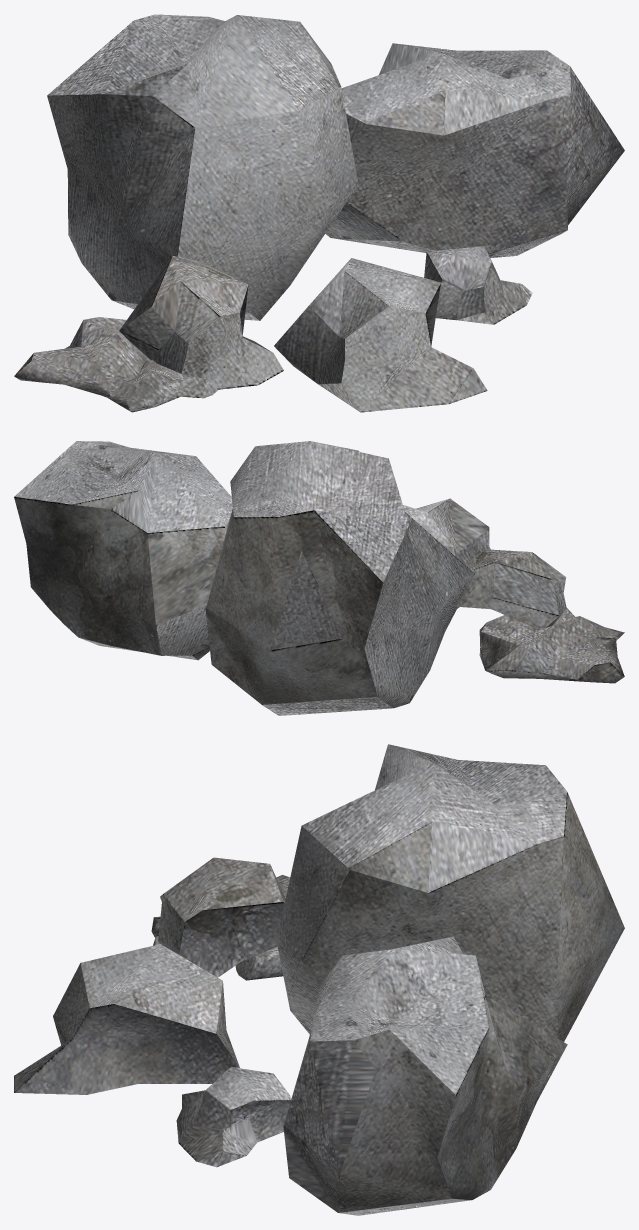
File: Debris1.FBX
The picture shows the model from 3 angles, top to bottom: view 1: azimuth 30°, elevation 25°; view 2: azimuth 150°, elevation 25°; view 3: azimuth 270°, elevation 25°; orthographic projection. The views are drawn at different scales.
Visible parts, largest first — view 1: Box001; view 2: Box001; view 3: Box001.
Part boxes in pixels (bbox=[...]): Box001: bbox=[14, 14, 624, 412]; Box001: bbox=[14, 441, 624, 715]; Box001: bbox=[14, 744, 624, 1215].
Size of the model in its own units: 56.34 by 24.13 by 41.15.
Materials: 1 (1 with a texture image).
